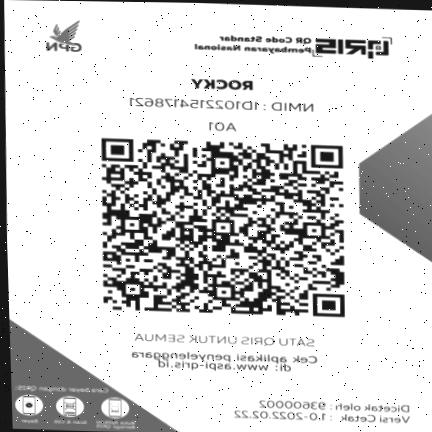Qris-Positioning: (4, 0, 432, 432)
